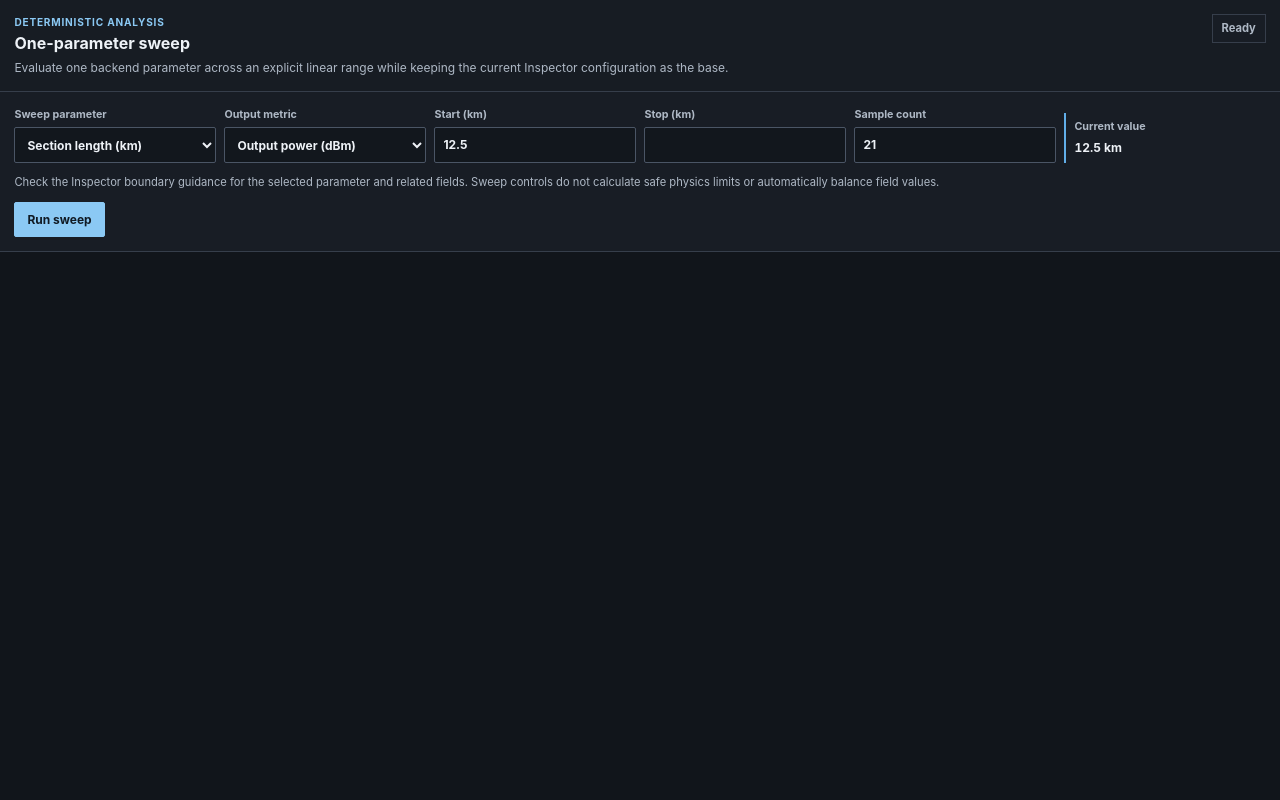
SweepWorkspace › does not render an aborted stale run when a second run wins
The image size is (1280, 800).
Type "20" into the number field labelled "Stop (km)".
click(745, 145); type("20")  # box [644, 127, 846, 163]
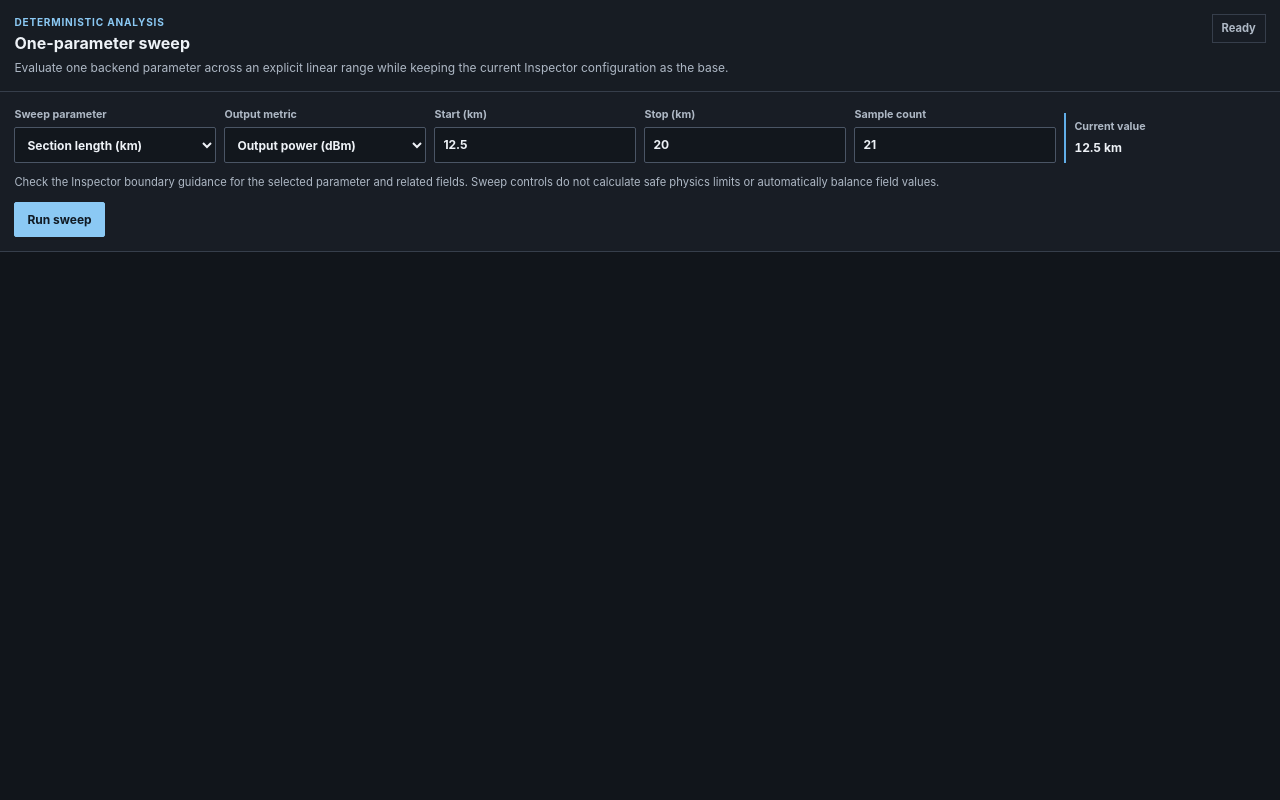
Replace the text in the number field labelled "Sample count" with "3" at (955, 145), box [854, 127, 1056, 163]
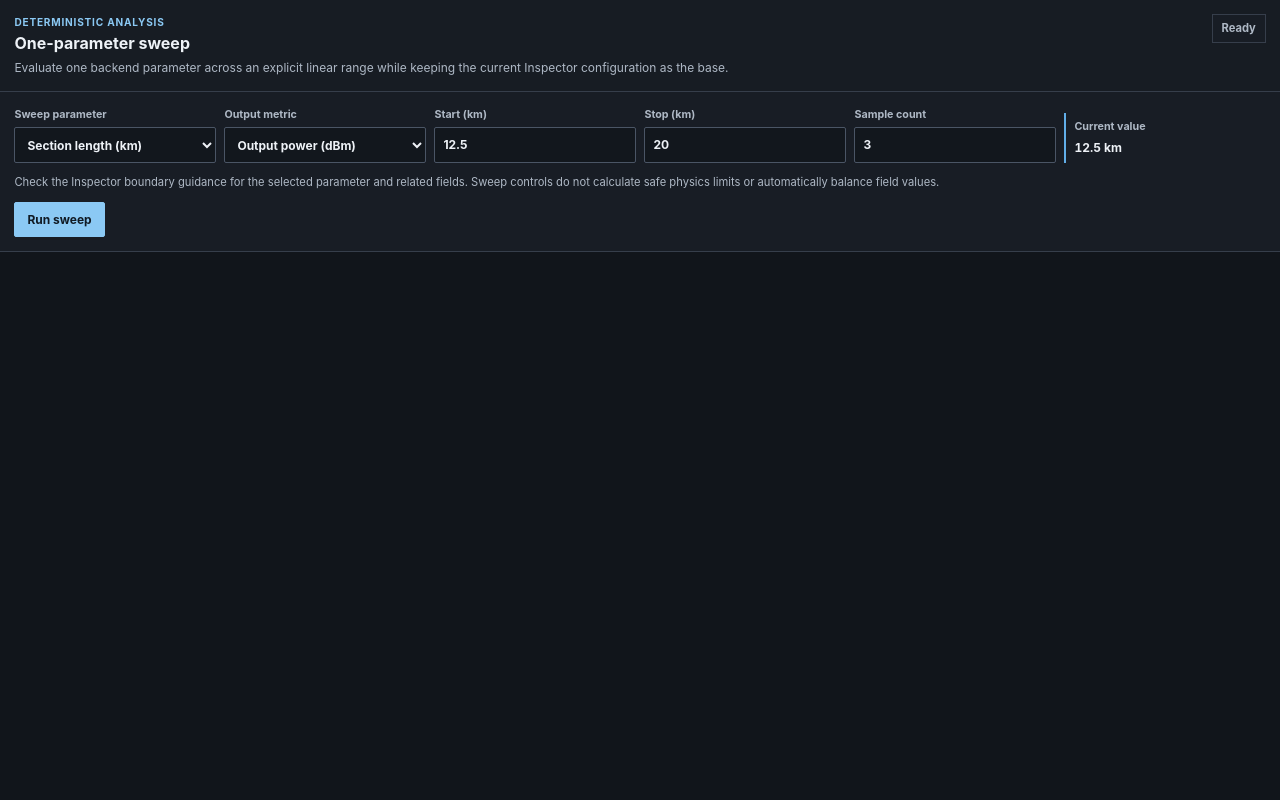
Click the button "Run sweep".
click(60, 220)  # box [14, 202, 105, 237]
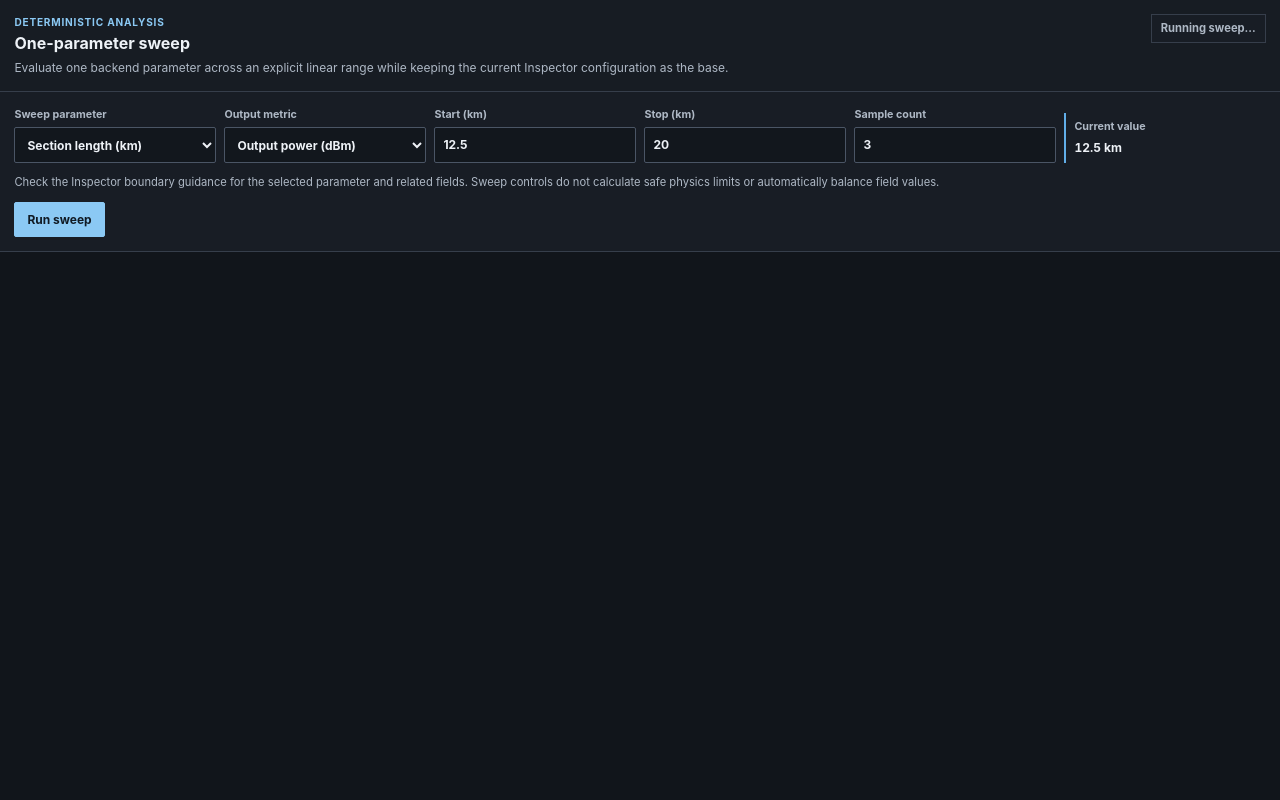
Click the button "Run sweep".
click(60, 220)  # box [14, 202, 105, 237]
(page scrolled)
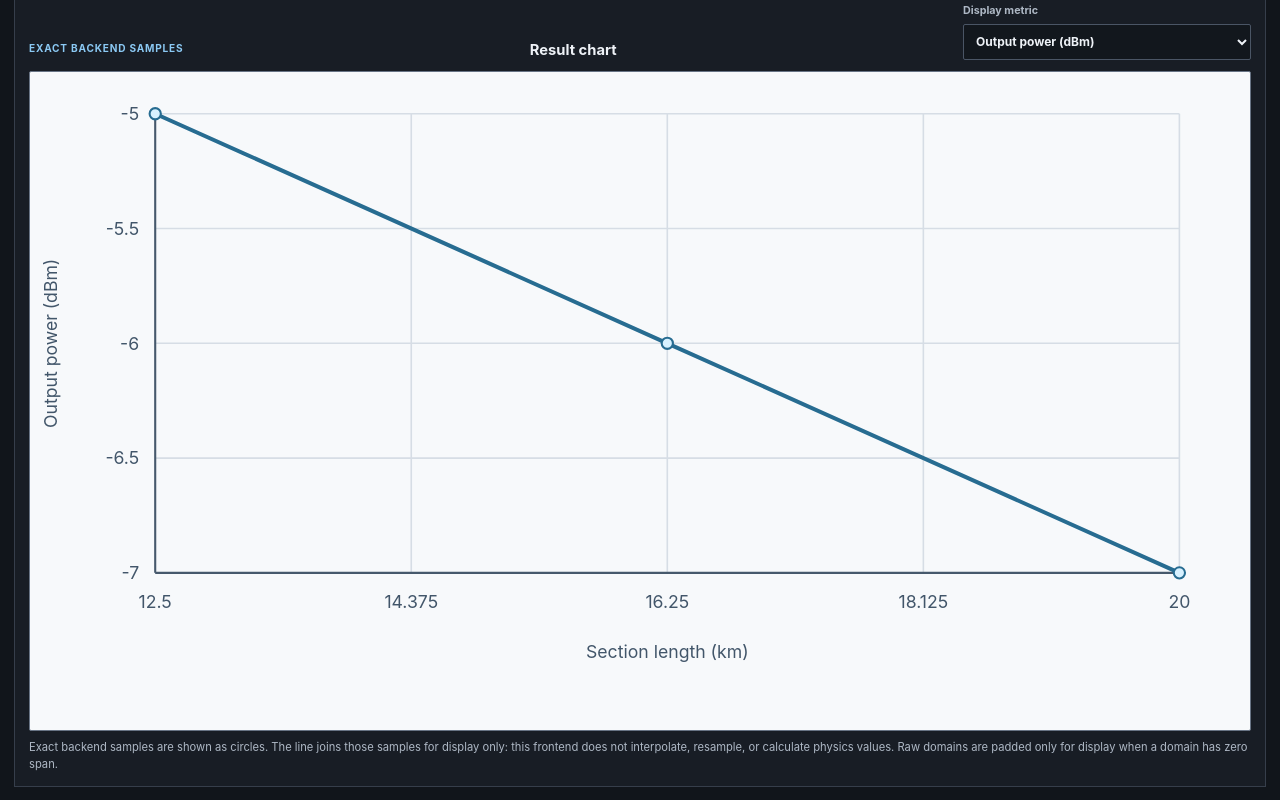
expect the picture named "One-parameter sweep result" is shown: met
